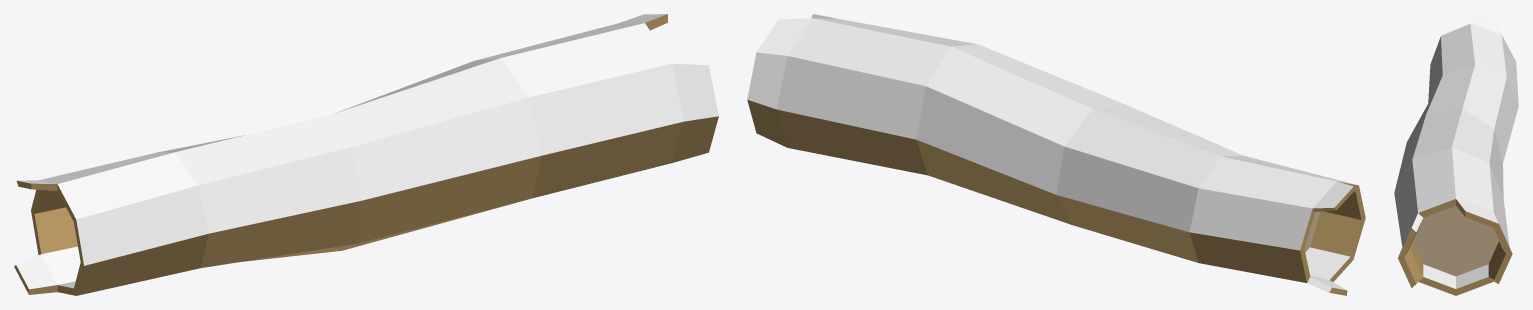
Rendered from Simple_Log_Snow_06.fbx.
3 renders of one model, left to right at view 1: azimuth 30°, elevation 25°; view 2: azimuth 150°, elevation 25°; view 3: azimuth 270°, elevation 25°, orthographic. The views are drawn at different scales.
Parts seen in each view (by area): view 1: Simple_Log_Snow_06; view 2: Simple_Log_Snow_06; view 3: Simple_Log_Snow_06.
Boxes of the visible parts, box(x1,y1,x2,y2) form: Simple_Log_Snow_06: box(14, 14, 718, 295); Simple_Log_Snow_06: box(747, 14, 1365, 295); Simple_Log_Snow_06: box(1394, 14, 1518, 295).
Bounding box in the file's own units: 184 × 41.99 × 45.5.
